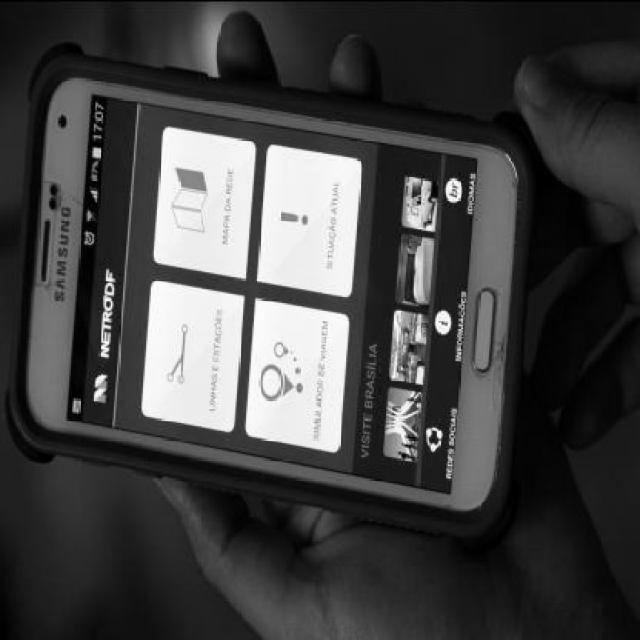fake: (14, 44, 546, 540)
